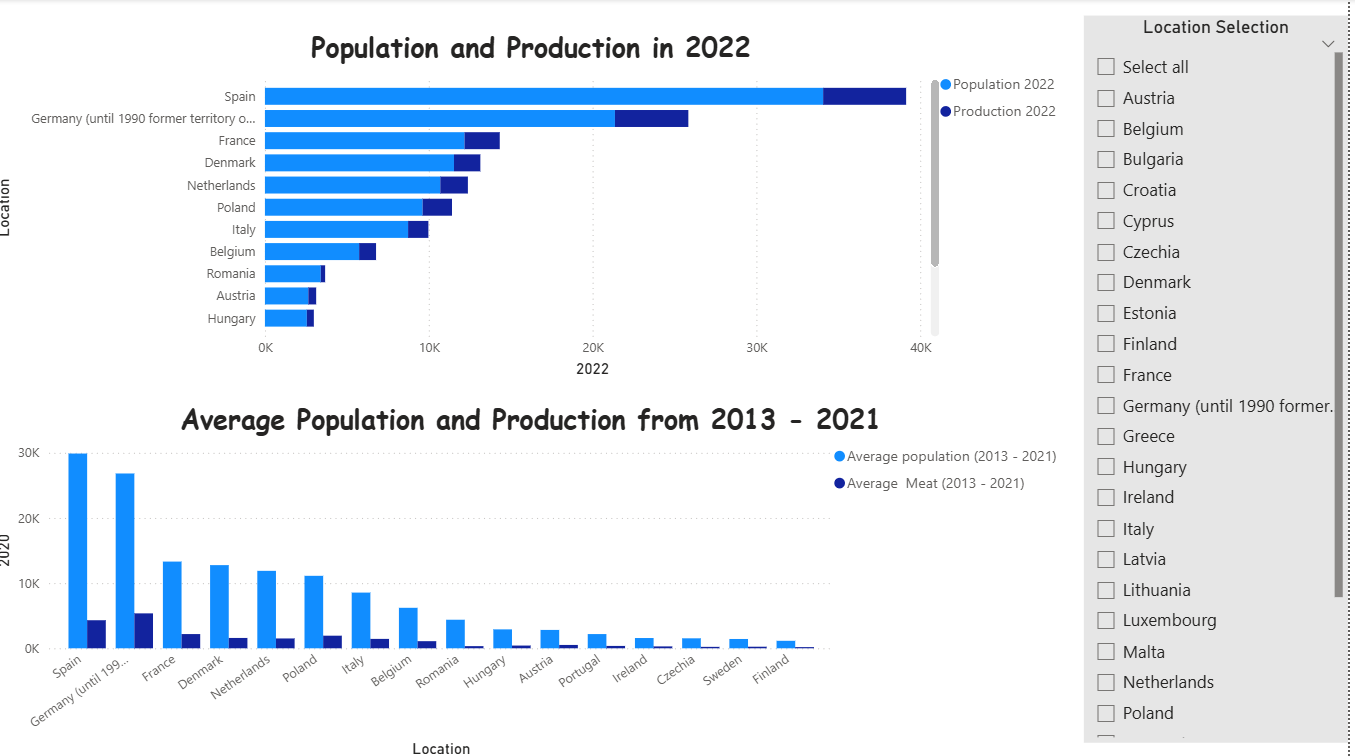

This screenshot's page, from the dashboard's own definition file:
{"tool":"powerbi","page":{"name":"Population VS Production","canvas":[1280,720],"ordinal":3},"visuals":[{"type":"lineClusteredColumnComboChart","title":"Average Population and Production from 2013 - 2021","fields":{"Category":["Pig Populations Europe.TIME"],"Y":["Pig Populations Europe.Average population (2013 - 2021)","Pigmeat prod tonnes.Average  Meat (2013 - 2021)"]},"box":[0,377.6,1019.8,342],"z":0},{"type":"barChart","title":"Population and Production  in 2022","fields":{"Category":["Pig Populations Europe.TIME"],"Y":["Sum(Pig Populations Europe.2022)","Sum(Pigmeat prod tonnes.2022)"]},"box":[0,26.3,1019.8,334.3],"z":1000},{"type":"slicer","title":"Location Selection","fields":{"Values":["Pigmeat prod tonnes.TIME"]},"box":[1030.7,15.5,249.2,685.6],"z":2000}]}

Visuals, with their boxes on the page's 1280x720 design canvas (x1, y1, x2, y2). These are canvas units, not pixel positions in the 1355x756 screenshot, which may show the page scaled, cropped or inside an application window:
"Average Population and Production from 2013 - 2021" lineClusteredColumnComboChart: (x1=0, y1=378, x2=1020, y2=720)
"Population and Production  in 2022" barChart: (x1=0, y1=26, x2=1020, y2=361)
"Location Selection" slicer: (x1=1031, y1=16, x2=1280, y2=701)
